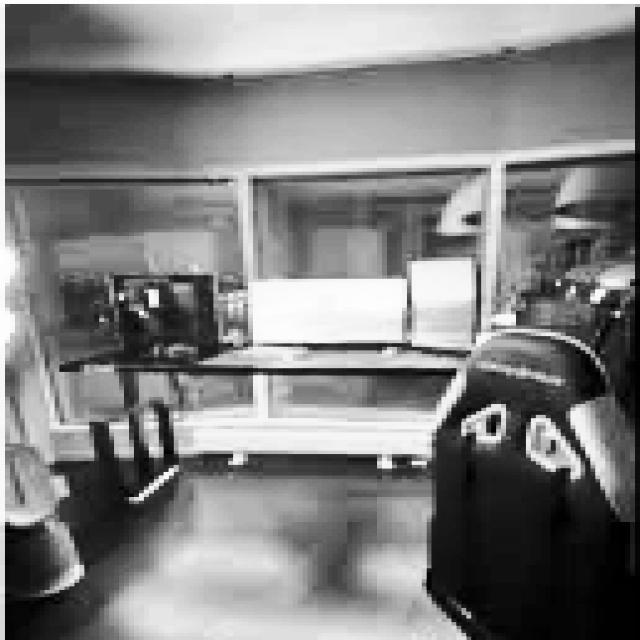book: (422, 326, 635, 636)
table: (59, 340, 467, 500)
